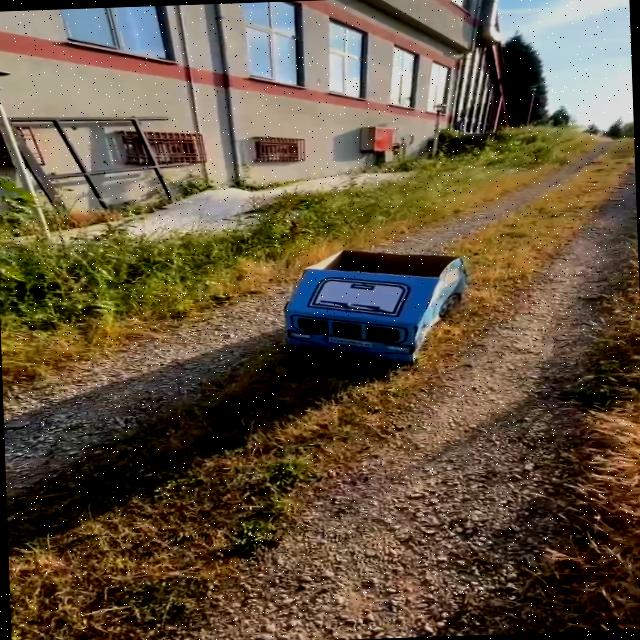blue_car: (223, 226, 514, 384)
